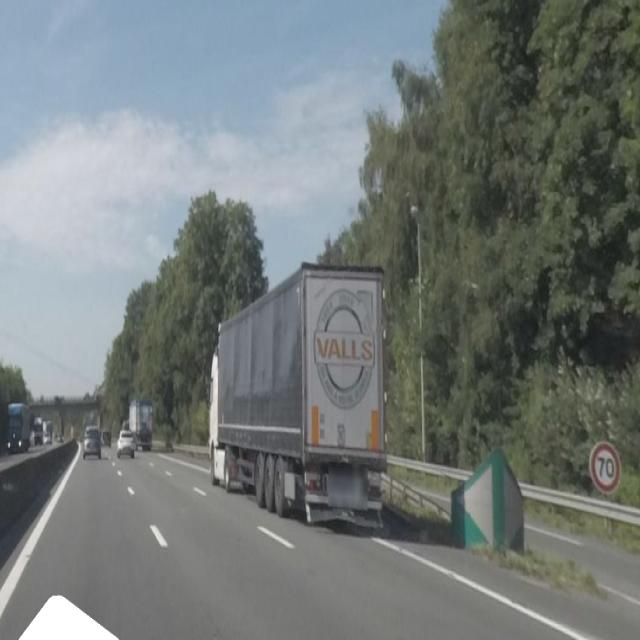speed_70: (591, 442, 620, 493)
